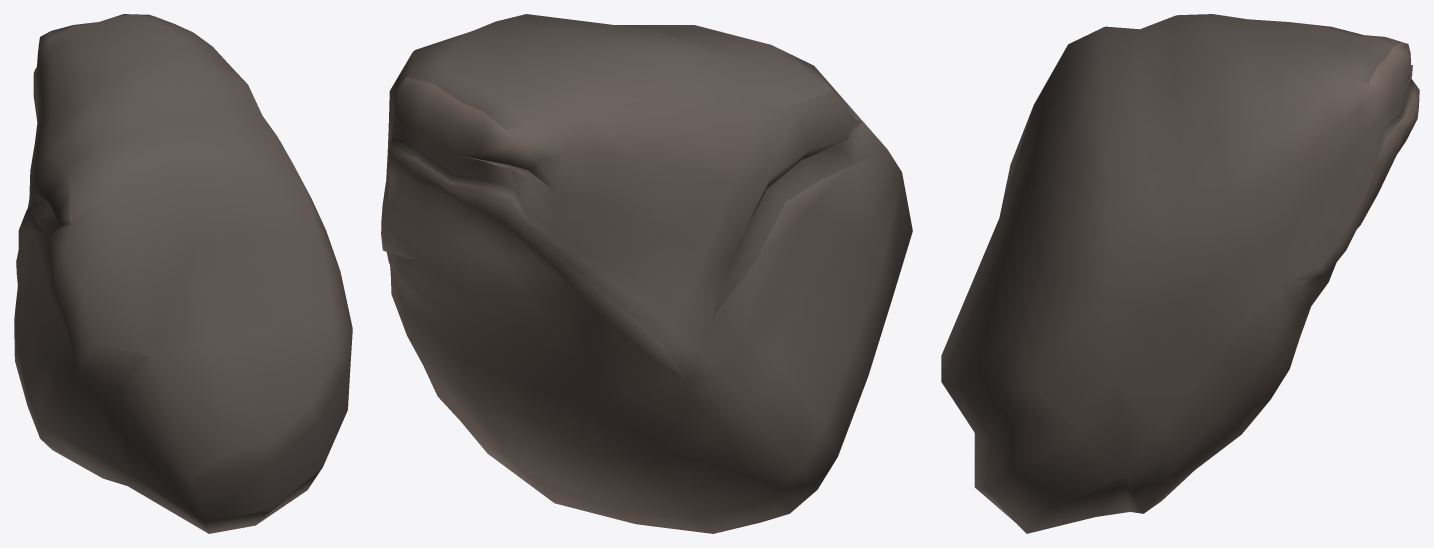
The model's file is SlantedRock.003.glb.
3 views of the same model, side by side, from view 1: azimuth 30°, elevation 25°; view 2: azimuth 150°, elevation 25°; view 3: azimuth 270°, elevation 25° (orthographic). The views are drawn at different scales.
Parts seen in each view (by area): view 1: SlantedRock.003; view 2: SlantedRock.003; view 3: SlantedRock.003.
Boxes of the visible parts, x1,y1,x2,y2 form: SlantedRock.003: [14, 14, 352, 533]; SlantedRock.003: [381, 14, 912, 533]; SlantedRock.003: [941, 14, 1419, 533].
Bounding box in the file's own units: 1016 × 1405 × 1279.
